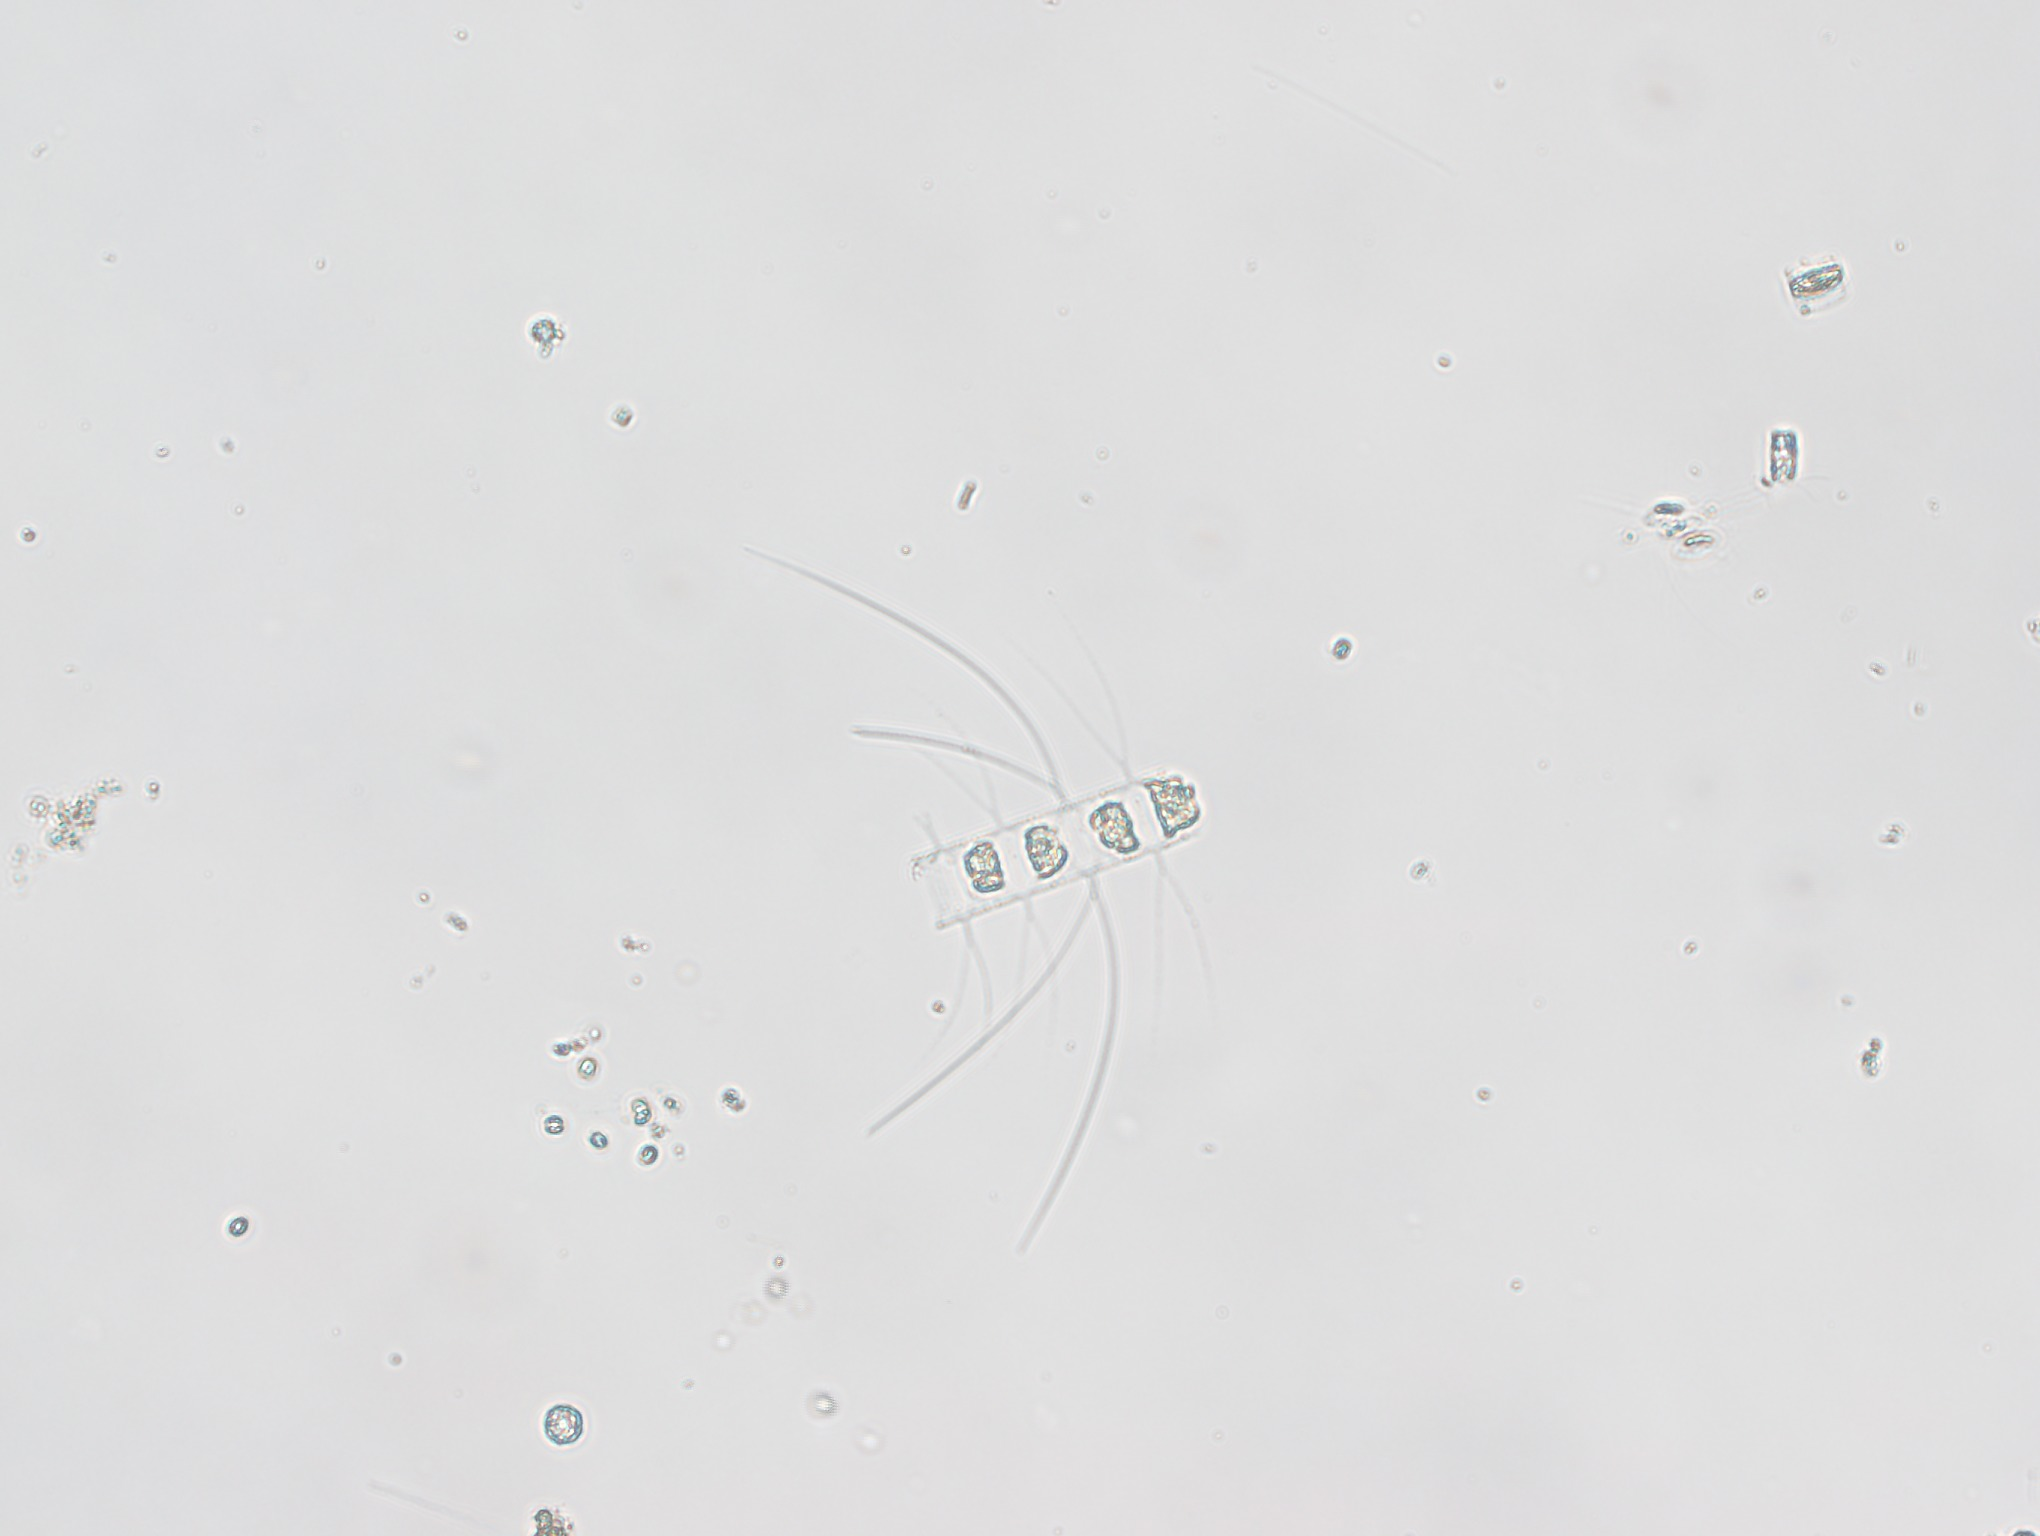chaetoceros: (716, 520, 1347, 1263)
